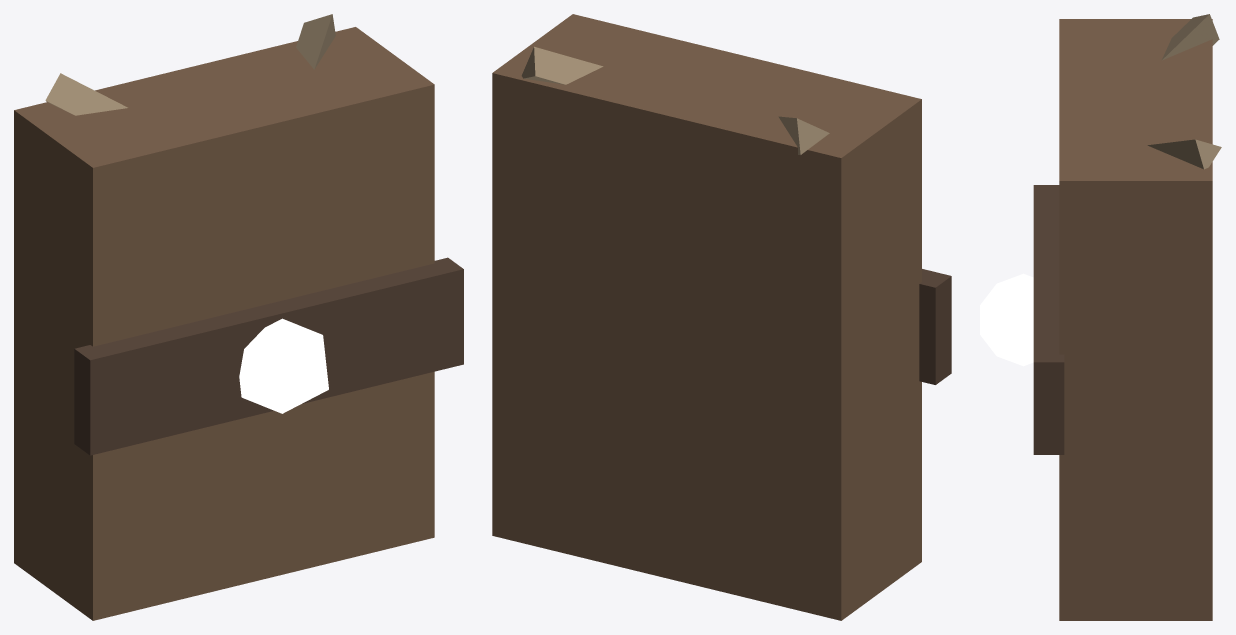
The model's file is ledger.glb.
The picture shows the model from 3 angles, left to right: view 1: azimuth 30°, elevation 25°; view 2: azimuth 150°, elevation 25°; view 3: azimuth 270°, elevation 25°; orthographic projection. The views are drawn at different scales.
Parts seen in each view (by area): view 1: ledger; view 2: ledger; view 3: ledger.
Part boxes in pixels (x1=…): ledger: x1=14, y1=14, x2=463, y2=620; ledger: x1=492, y1=14, x2=951, y2=620; ledger: x1=980, y1=14, x2=1221, y2=620.
Size of the model in its own units: 0.082 by 0.1007 by 0.0473.
